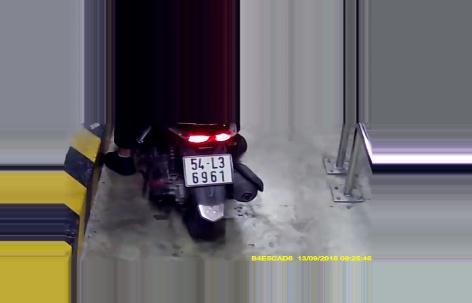License_Plate: (181, 154, 236, 187)
